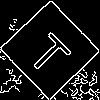T: (25, 24, 80, 79)
